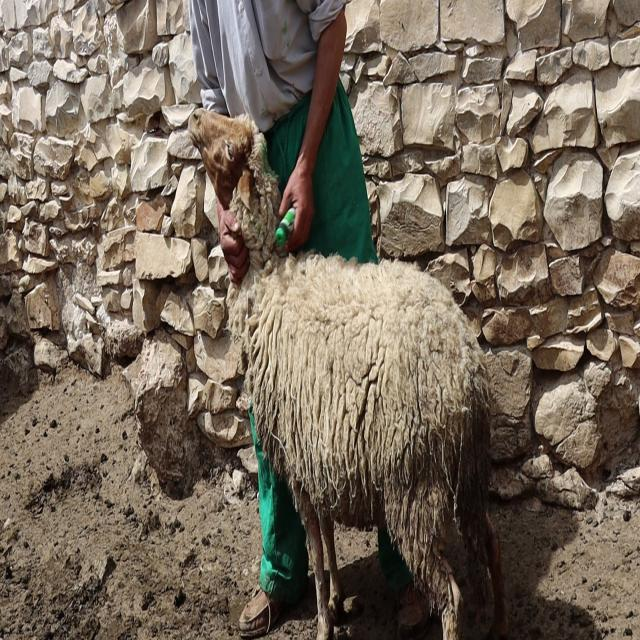Score_3: (188, 109, 507, 639)
